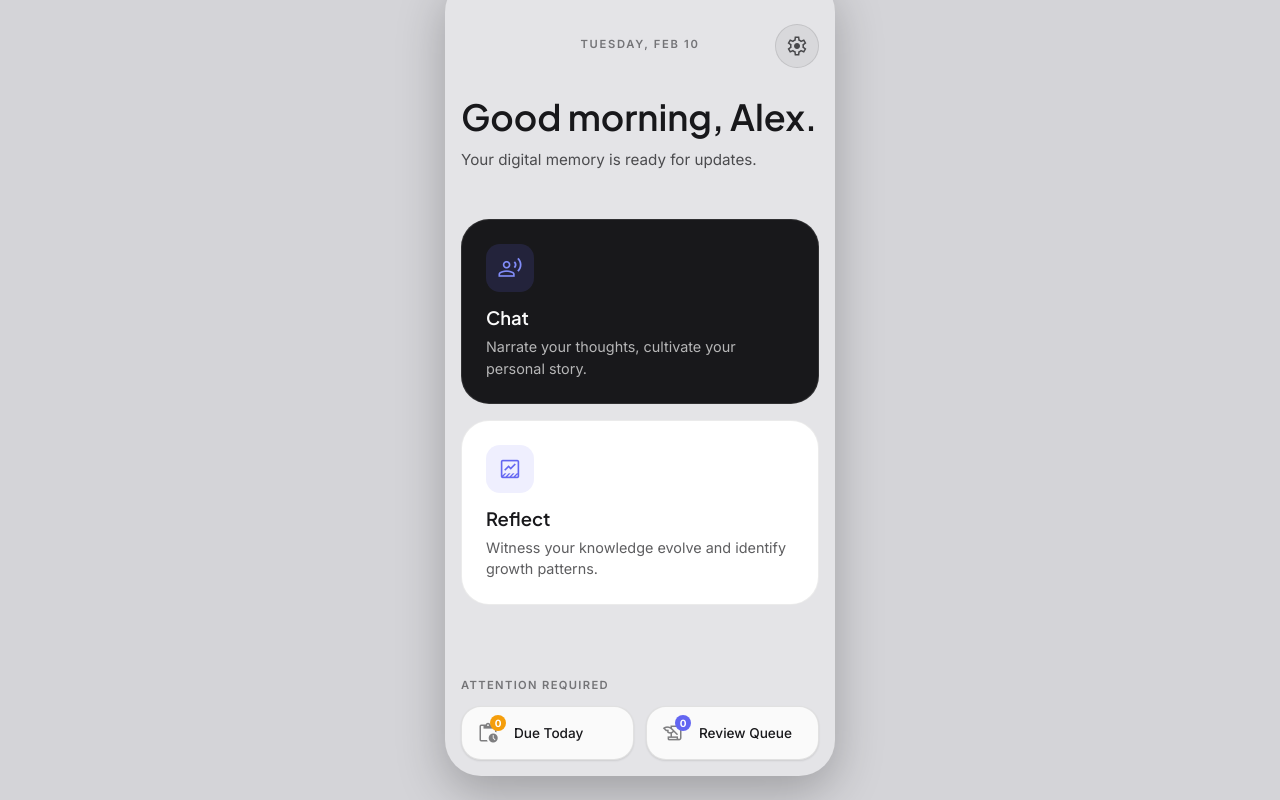
Test: Navigation actions › Due Today card navigates to Commitments tab
This screenshot has width=1280, height=800.
(page scrolled)
Click the link "0 Due Today": (548, 733) [461,706,634,760]
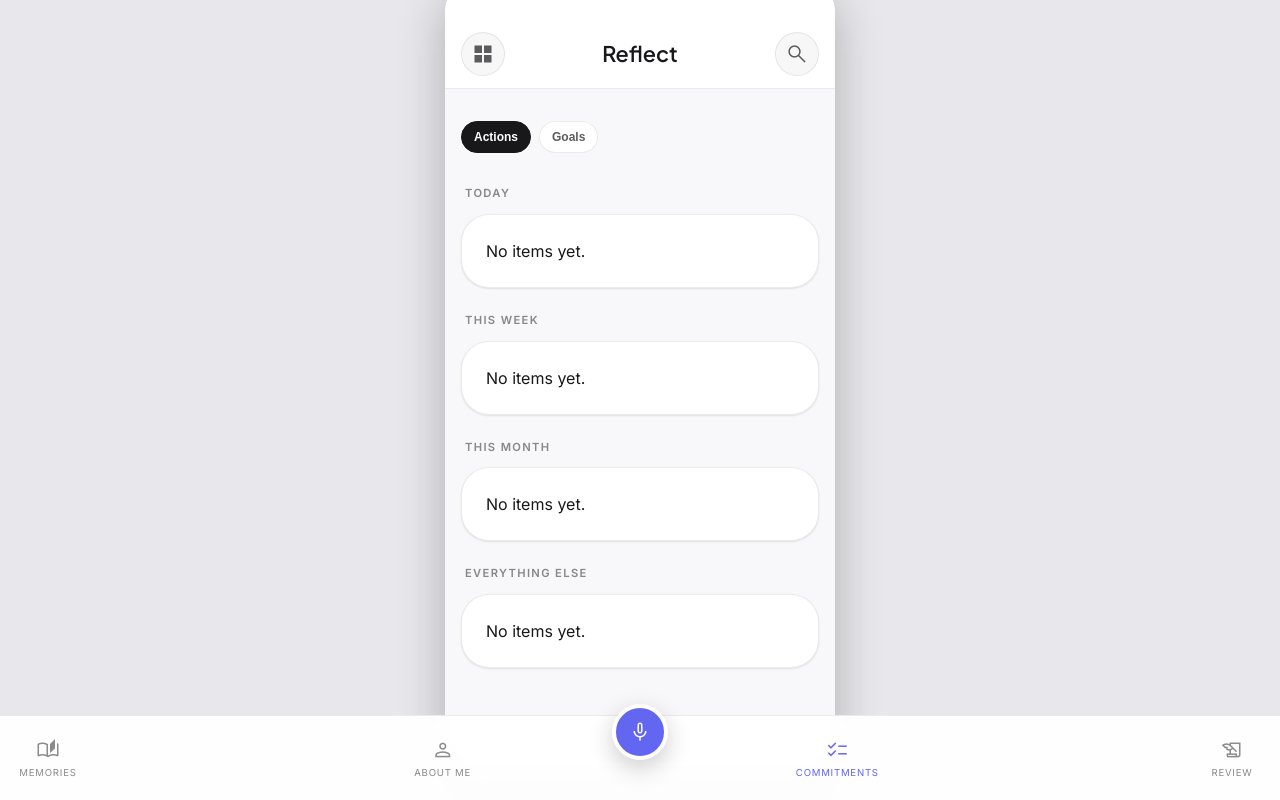
Check: the button "Actions" is shown, box [461,121,531,153]
